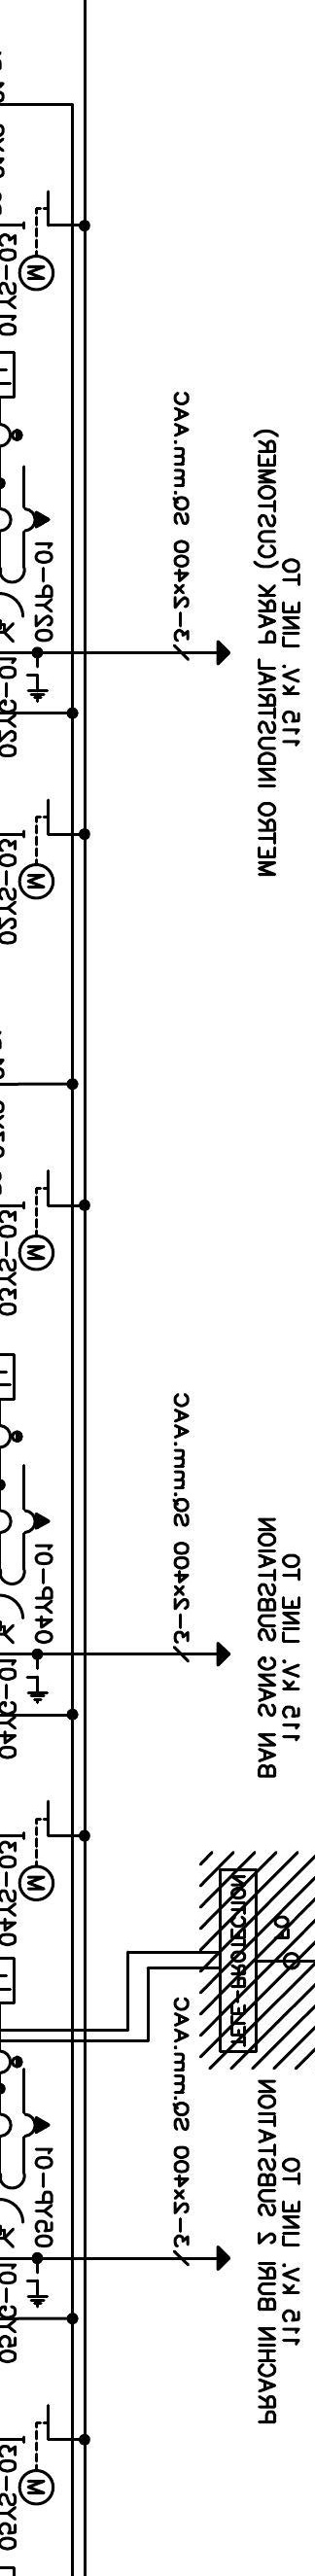115_1way_ds_w_motor: (16, 1799, 54, 1904), (18, 1168, 56, 1272), (16, 2404, 54, 2507), (16, 798, 54, 902), (18, 189, 56, 292)
115_gs: (25, 664, 49, 705), (25, 2270, 49, 2310), (25, 1666, 49, 1705)
tele_protection: (218, 1868, 258, 2054)
